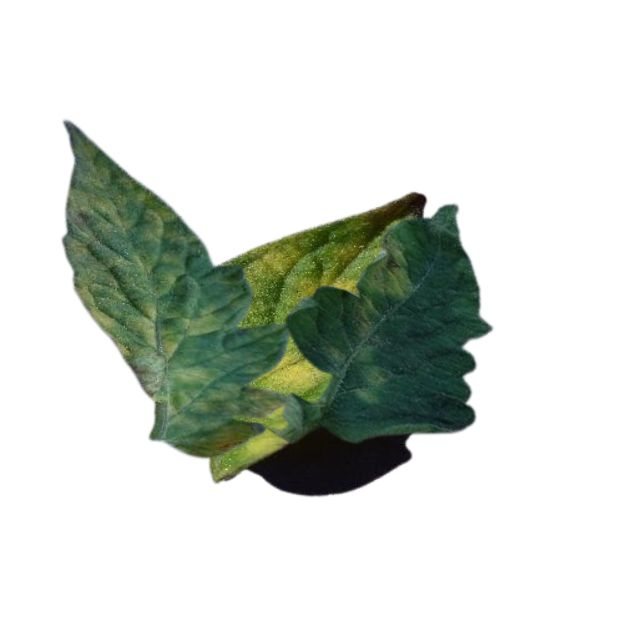Leaf_Mold: (63, 125, 246, 466), (241, 238, 358, 305), (353, 230, 414, 335), (253, 340, 328, 403), (238, 428, 280, 459)
